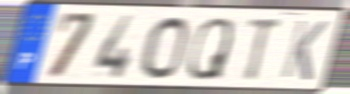4: (91, 12, 135, 82)
7: (47, 10, 100, 81)
K: (278, 17, 330, 83)
O: (138, 15, 191, 81)
Q: (185, 15, 235, 82)
T: (244, 16, 285, 83)
